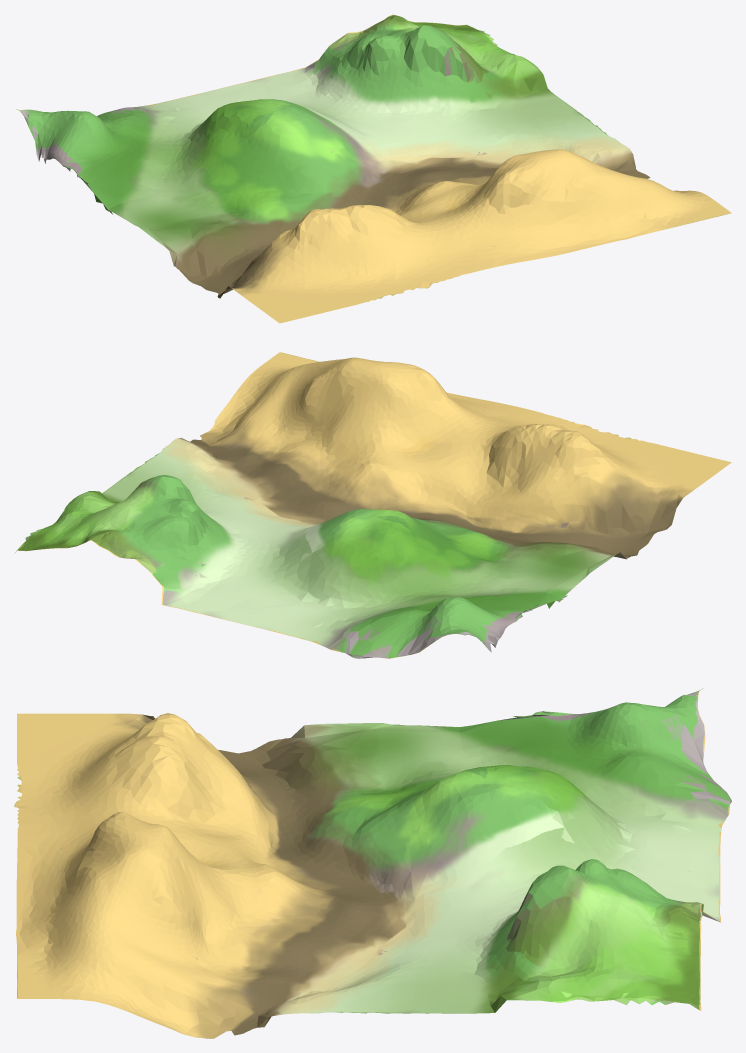
File: Terrain2.fbx
3 renders of one model, top to bottom at view 1: azimuth 30°, elevation 25°; view 2: azimuth 150°, elevation 25°; view 3: azimuth 270°, elevation 25°, orthographic. The views are drawn at different scales.
Visible parts, largest first — view 1: Terrain3_10000; view 2: Terrain3_10000; view 3: Terrain3_10000.
Part boxes in pixels (<box>): Terrain3_10000: <box>15,14,731,323</box>; Terrain3_10000: <box>15,352,731,658</box>; Terrain3_10000: <box>14,688,731,1038</box>.
Bounding box in the file's own units: 20264 × 3679 × 21287.
